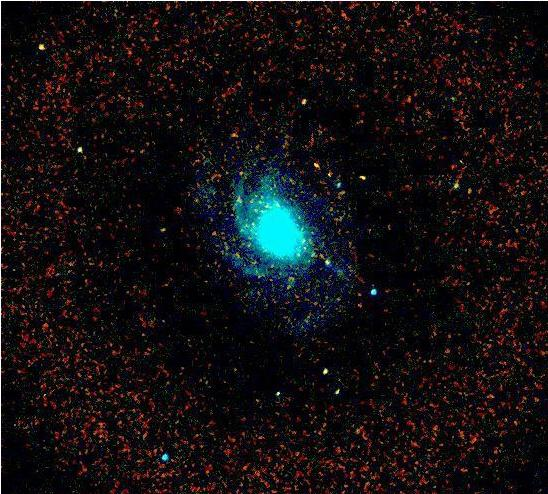star: (456, 175, 486, 205)
